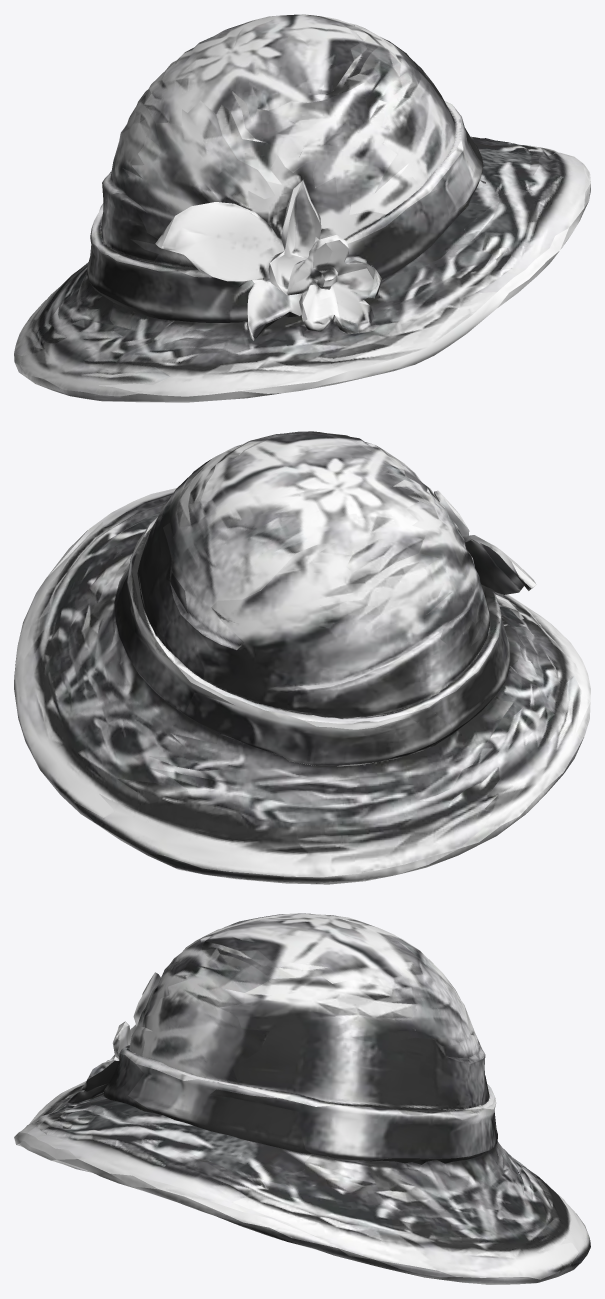
The model's file is hat-silver.glb.
3 renders of one model, top to bottom at view 1: azimuth 30°, elevation 25°; view 2: azimuth 150°, elevation 25°; view 3: azimuth 270°, elevation 25°, orthographic. The views are drawn at different scales.
Parts seen in each view (by area): view 1: geometry_0; view 2: geometry_0; view 3: geometry_0.
Boxes of the visible parts, x1=… form: geometry_0: x1=14, y1=14, x2=590, y2=402; geometry_0: x1=14, y1=431, x2=590, y2=884; geometry_0: x1=14, y1=913, x2=590, y2=1284.
Bounding box in the file's own units: 0.35 × 0.2139 × 0.3422.
1 material, 1 textured.
